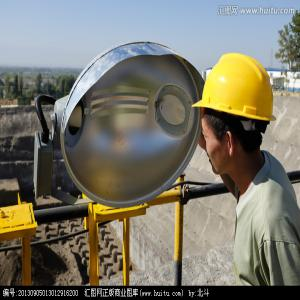yellow: (200, 49, 274, 179)
